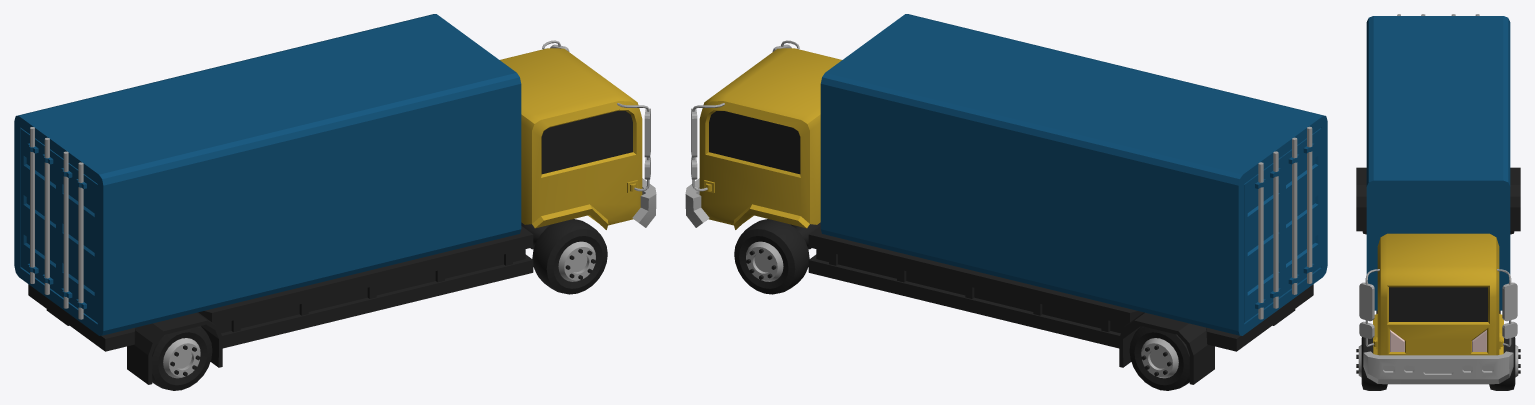
Rendered from Caminhao.fbx.
3 renders of one model, left to right at view 1: azimuth 30°, elevation 25°; view 2: azimuth 150°, elevation 25°; view 3: azimuth 270°, elevation 25°, orthographic. The views are drawn at different scales.
Parts seen in each view (by area): view 1: Corpo, Porta D, Porta E, Roda FD, Roda TD; view 2: Corpo, Porta E, Porta D, Roda FE, Roda TE; view 3: Corpo, Roda FE, Roda FD.
Part boxes in pixels (x1,y1,x2,y2): Corpo: (14, 14, 656, 384); Porta D: (59, 151, 97, 322); Porta E: (20, 127, 59, 294); Roda FD: (532, 219, 607, 294); Roda TD: (152, 326, 212, 390); Corpo: (685, 14, 1327, 384); Porta E: (1244, 151, 1282, 322); Porta D: (1282, 126, 1321, 294); Roda FE: (734, 219, 809, 294); Roda TE: (1129, 326, 1189, 390); Corpo: (1356, 16, 1520, 384); Roda FE: (1489, 337, 1520, 390); Roda FD: (1356, 337, 1387, 390).
Bounding box in the file's own units: 2363 × 924 × 738.
